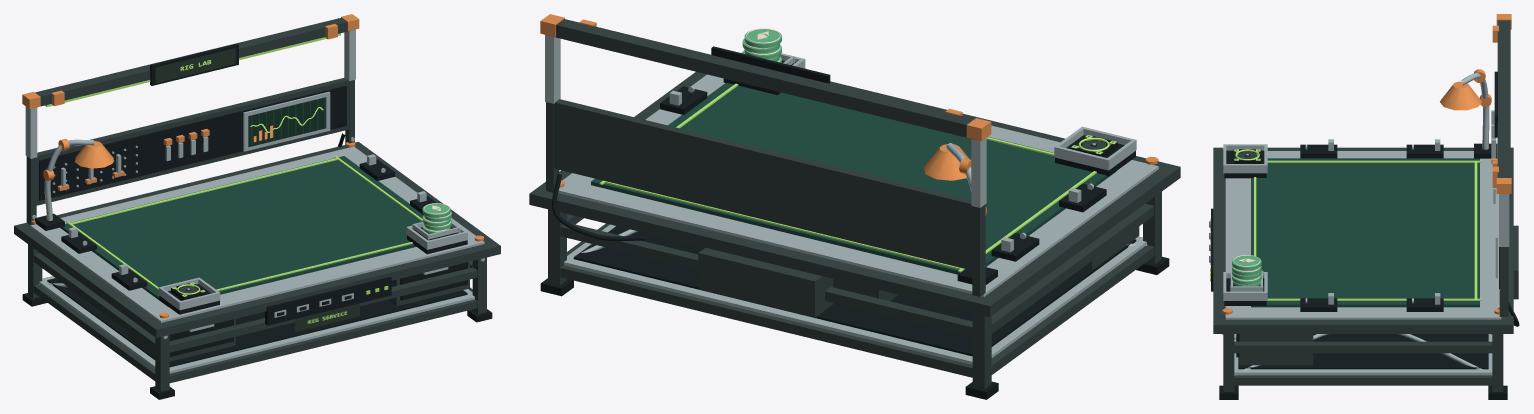
The model's file is rig-workbench.glb.
The picture shows the model from 3 angles, left to right: view 1: azimuth 30°, elevation 25°; view 2: azimuth 150°, elevation 25°; view 3: azimuth 270°, elevation 25°; orthographic projection. The views are drawn at different scales.
Visible parts, largest first — view 1: rig-workbench, service-lamp-shade; view 2: rig-workbench, service-lamp-shade; view 3: rig-workbench, service-lamp-shade, ethereum-coin-tray.
Part boxes in pixels (bbox=[...]): rig-workbench: bbox=[14, 14, 500, 399]; service-lamp-shade: bbox=[74, 141, 113, 168]; rig-workbench: bbox=[529, 14, 1180, 399]; service-lamp-shade: bbox=[923, 144, 969, 180]; rig-workbench: bbox=[1209, 14, 1519, 399]; service-lamp-shade: bbox=[1440, 81, 1481, 110]; ethereum-coin-tray: bbox=[1230, 270, 1263, 291].
Size of the model in its own units: 6.12 by 3.54 by 4.52.
Materials: 13 (3 with a texture image).
